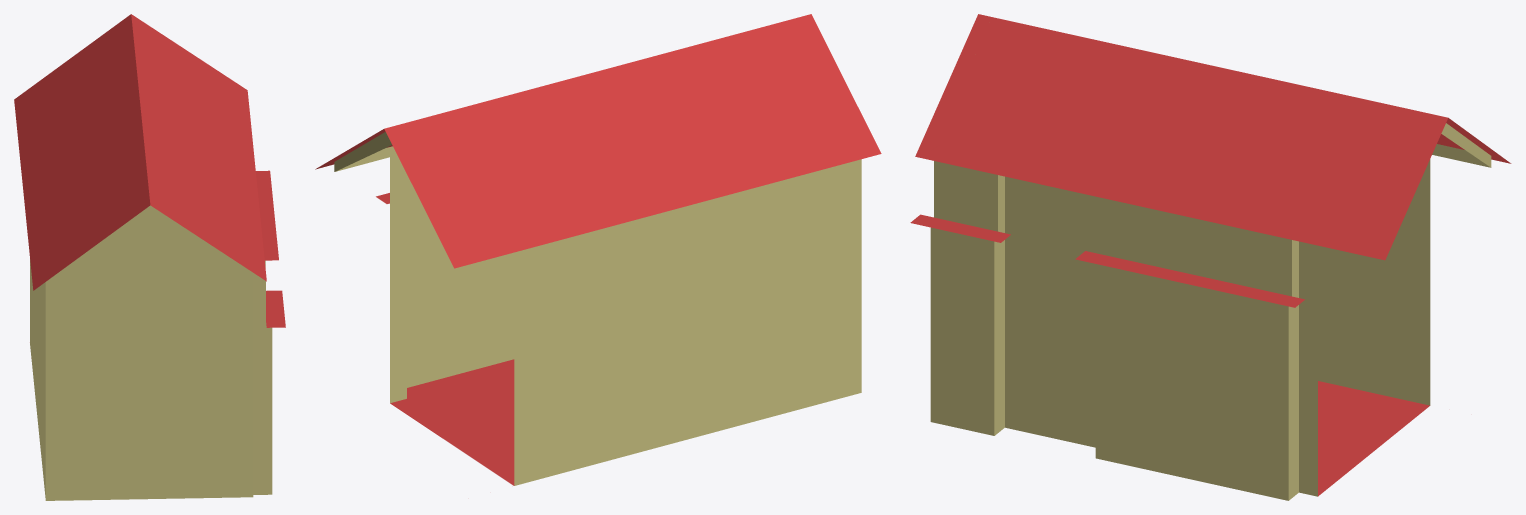
3 renders of one model, left to right at view 1: azimuth 30°, elevation 25°; view 2: azimuth 150°, elevation 25°; view 3: azimuth 270°, elevation 25°, orthographic. The views are drawn at different scales.
Parts seen in each view (by area): view 1: group_5, group_3, group_4, group_11, group_9, group_7, group_8; view 2: group_5, group_3, group_13, group_4, group_6; view 3: group_3, group_5, group_13, group_9, group_6, group_11, group_4, group_7, group_12.
Boxes of the visible parts, box(x1,y1,x2,y2) form: group_5: box(30, 205, 265, 500); group_3: box(14, 14, 266, 281); group_4: box(14, 14, 266, 290); group_11: box(255, 170, 278, 260); group_9: box(266, 323, 272, 494); group_7: box(266, 290, 285, 327); group_8: box(266, 290, 285, 327); group_5: box(334, 132, 861, 485); group_3: box(384, 14, 861, 267); group_13: box(407, 196, 514, 387); group_4: box(315, 15, 881, 268); group_6: box(390, 363, 514, 485); group_3: box(915, 15, 1511, 260); group_5: box(934, 123, 1491, 497); group_13: box(1095, 264, 1291, 500); group_9: box(930, 227, 997, 435); group_6: box(1318, 381, 1429, 496); group_11: box(1075, 251, 1304, 307); group_4: box(921, 14, 1456, 258); group_7: box(910, 214, 1010, 242); group_12: box(1076, 251, 1303, 307).
Size of the model in its own units: 24.04 by 29.65 by 19.03.
